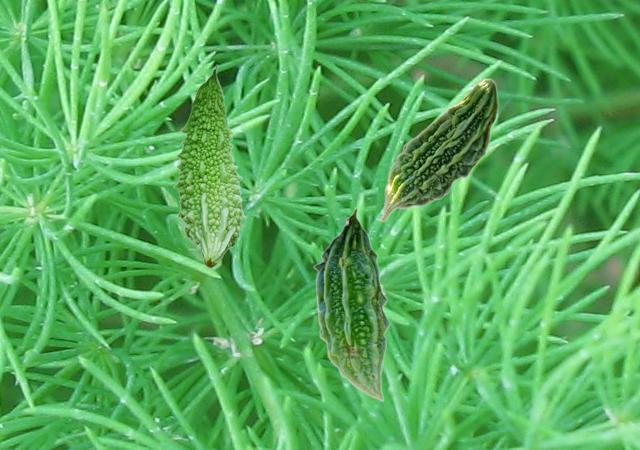ampalaya: (378, 76, 499, 224), (312, 207, 391, 402), (172, 63, 246, 268)
